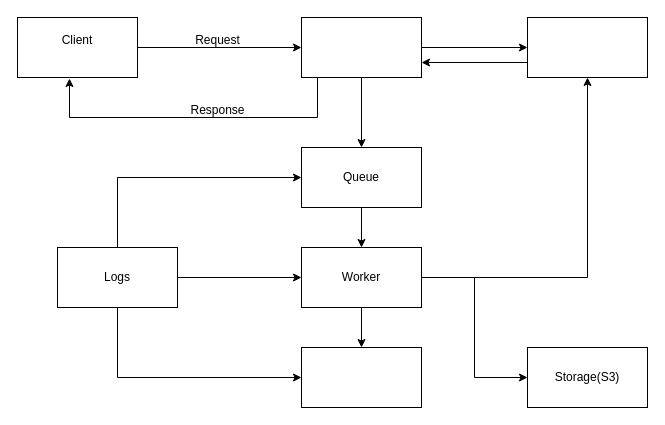
This 665x425 diagram has some shape labels left out. Here are the shapes that lost their labels. From the top down, the centre of each, then its label:
At (x=361, y=47): "API".
At (x=587, y=47): "Database".
At (x=361, y=377): "Email".
